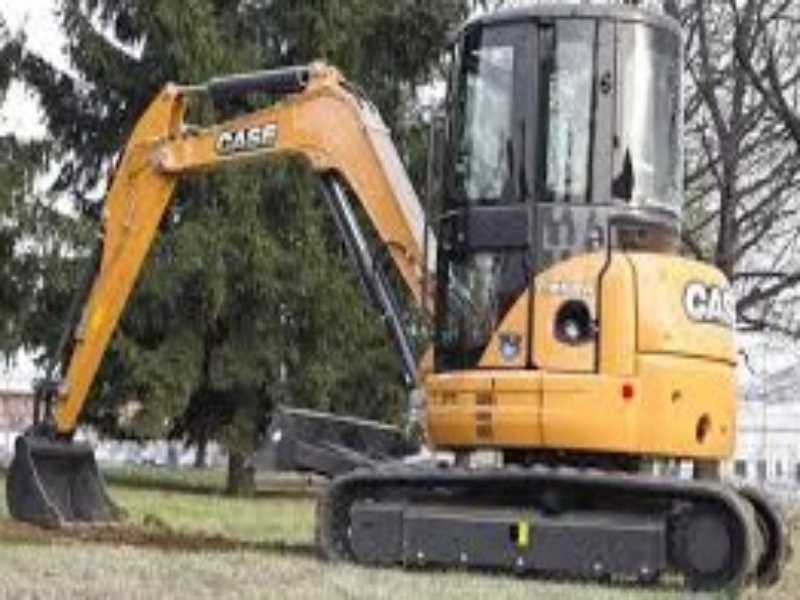wajueji: (341, 7, 789, 591)
